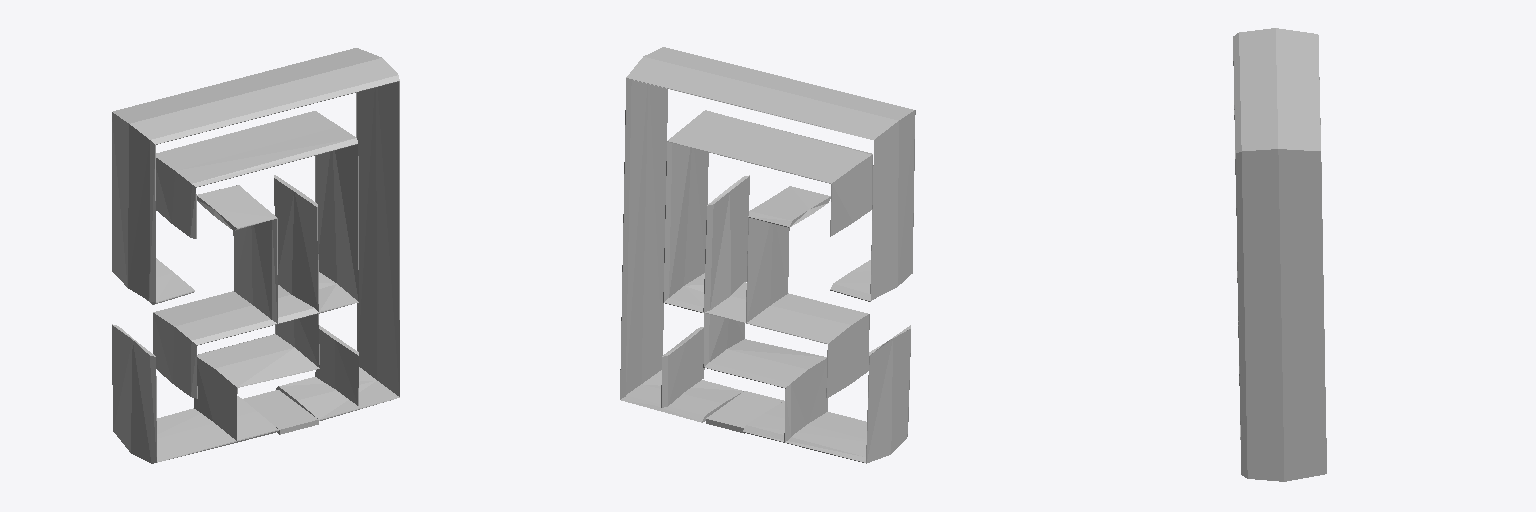
File: Maze4.obj
3 renders of one model, left to right at view 1: azimuth 30°, elevation 25°; view 2: azimuth 150°, elevation 25°; view 3: azimuth 270°, elevation 25°, orthographic.
Parts seen in each view (by area): view 1: Maze; view 2: Maze; view 3: Maze.
Part boxes in pixels (left/top/right/bottom): Maze: left=112, top=48, right=399, bottom=463; Maze: left=620, top=47, right=915, bottom=463; Maze: left=1233, top=28, right=1326, bottom=481.
Bounding box in the file's own units: 11.57 × 14.43 × 3.66.